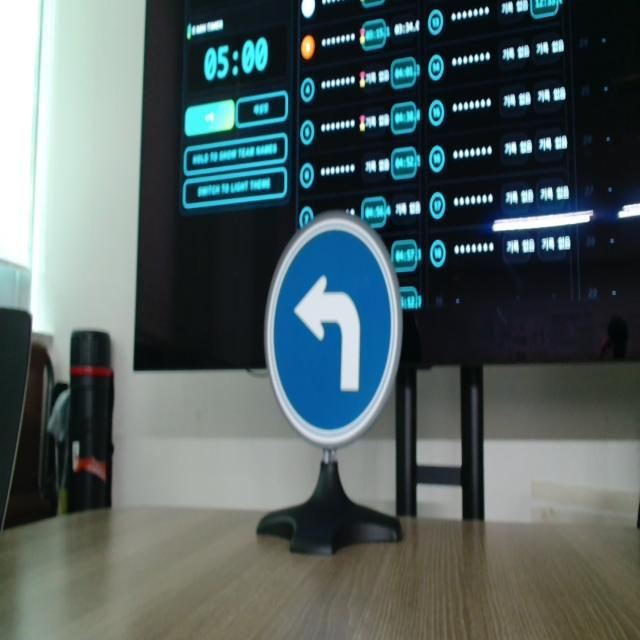left_direction: (257, 217, 416, 448)
